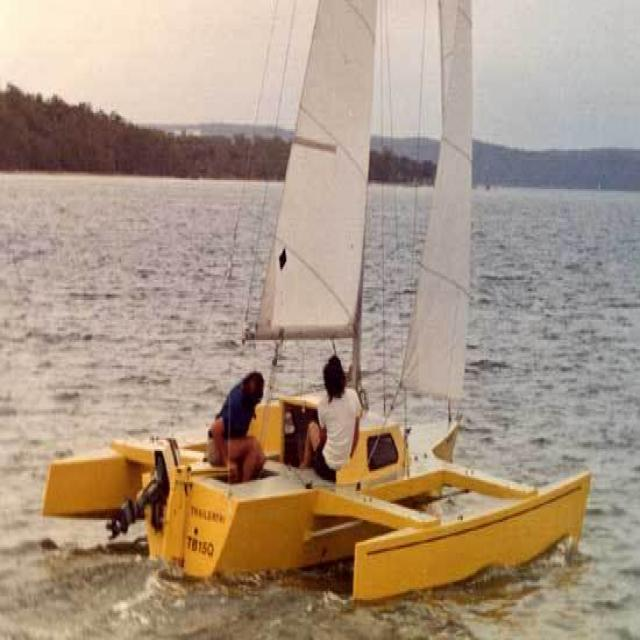Ship: (41, 10, 600, 593)
